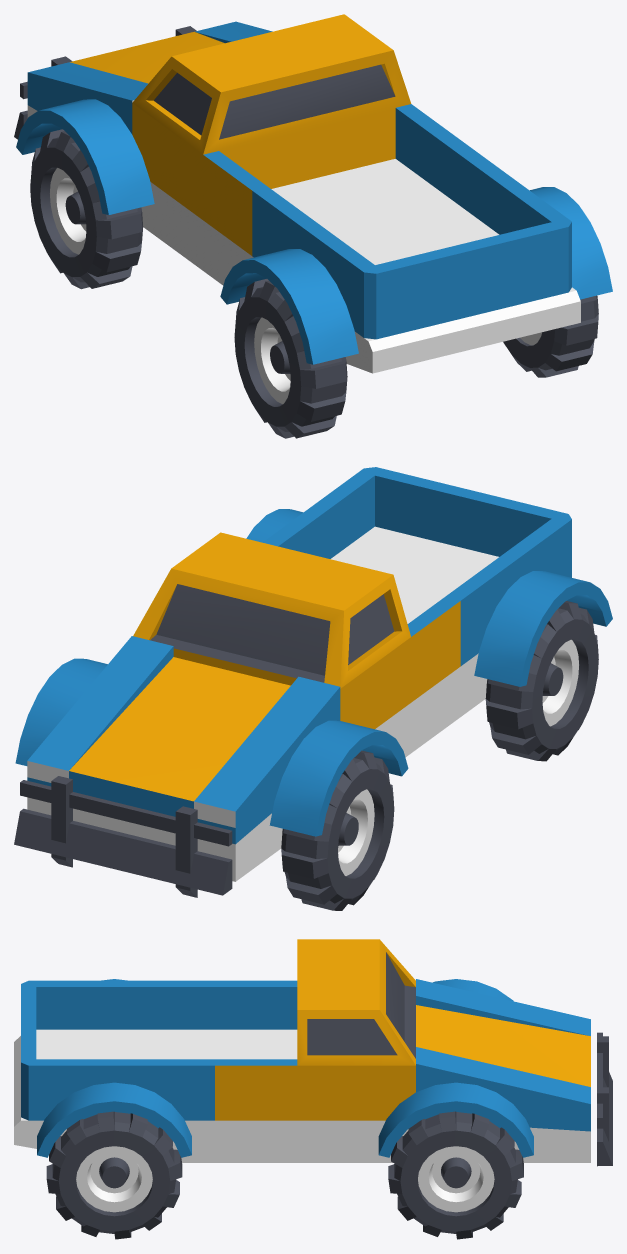
Rendered from Truck 1 fbx.fbx.
3 views of the same model, one above another, from view 1: azimuth 30°, elevation 25°; view 2: azimuth 150°, elevation 25°; view 3: azimuth 270°, elevation 25° (orthographic). The views are drawn at different scales.
Parts seen in each view (by area): view 1: windshield_truck_2, trunk_bed_3, wheel_dirt_13, wheel_dirt_11, hood_sleek_1, detail_fender_14, detail_fender_12, wheel_dirt_10, detail_fender_5, detail_bullbar_6; view 2: hood_sleek_1, windshield_truck_2, trunk_bed_3, detail_bullbar_6, wheel_dirt_11, wheel_dirt_13, detail_fender_14, detail_fender_12, detail_fender_4, detail_fender_5; view 3: windshield_truck_2, trunk_bed_3, hood_sleek_1, wheel_dirt_10, wheel_dirt_9, detail_fender_4, detail_fender_5, detail_bullbar_6, detail_fender_14.
Part boxes in pixels (left/top/right/bottom): windshield_truck_2: left=132, top=14, right=459, bottom=285; trunk_bed_3: left=252, top=140, right=580, bottom=373; wheel_dirt_13: left=30, top=129, right=143, bottom=289; wheel_dirt_11: left=234, top=279, right=347, bottom=438; hood_sleek_1: left=27, top=21, right=272, bottom=134; detail_fender_14: left=16, top=99, right=154, bottom=214; detail_fender_12: left=220, top=249, right=358, bottom=364; wheel_dirt_10: left=503, top=295, right=598, bottom=377; detail_fender_5: left=530, top=187, right=612, bottom=299; detail_bullbar_6: left=14, top=26, right=196, bottom=139; hood_sleek_1: left=27, top=636, right=340, bottom=881; windshield_truck_2: left=133, top=532, right=460, bottom=757; trunk_bed_3: left=263, top=467, right=571, bottom=716; detail_bullbar_6: left=14, top=776, right=232, bottom=897; wheel_dirt_11: left=485, top=601, right=598, bottom=761; wheel_dirt_13: left=281, top=750, right=394, bottom=910; detail_fender_14: left=269, top=720, right=408, bottom=836; detail_fender_12: left=474, top=571, right=612, bottom=686; detail_fender_4: left=15, top=658, right=107, bottom=765; detail_fender_5: left=246, top=509, right=303, bottom=542; windshield_truck_2: left=215, top=939, right=415, bottom=1162; trunk_bed_3: left=14, top=980, right=214, bottom=1162; hood_sleek_1: left=416, top=979, right=590, bottom=1162; wheel_dirt_10: left=46, top=1111, right=182, bottom=1239; wheel_dirt_9: left=388, top=1111, right=523, bottom=1239; detail_fender_4: left=378, top=1082, right=533, bottom=1157; detail_fender_5: left=37, top=1082, right=191, bottom=1157; detail_bullbar_6: left=597, top=1032, right=612, bottom=1166; detail_fender_14: left=433, top=979, right=513, bottom=1001.
Size of the model in its own units: 14.4 by 11.38 by 29.8.
